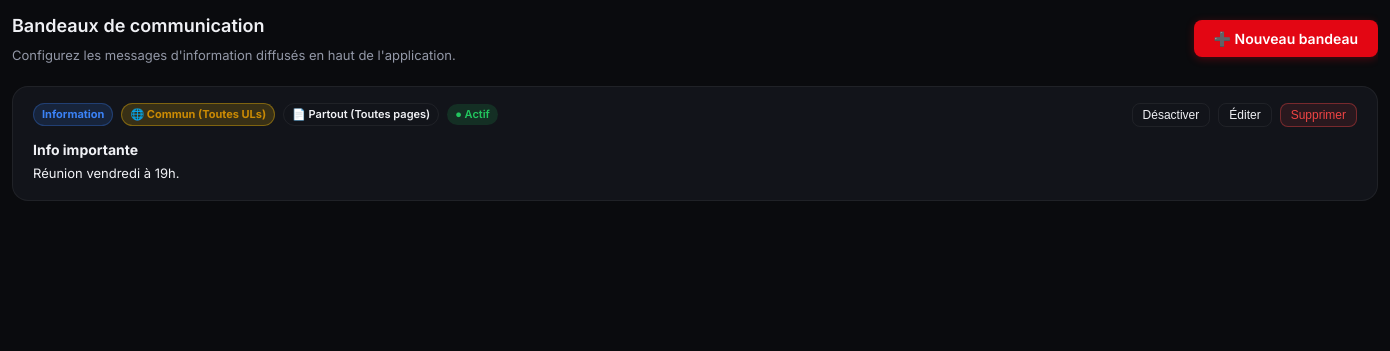
Test: BannersTab › supprime un bandeau après confirmation
Expected: the text "Info importante" is shown, [33,141,138,158]
Click the button "Supprimer". click: x=1318, y=115
box: [1280,103,1357,127]
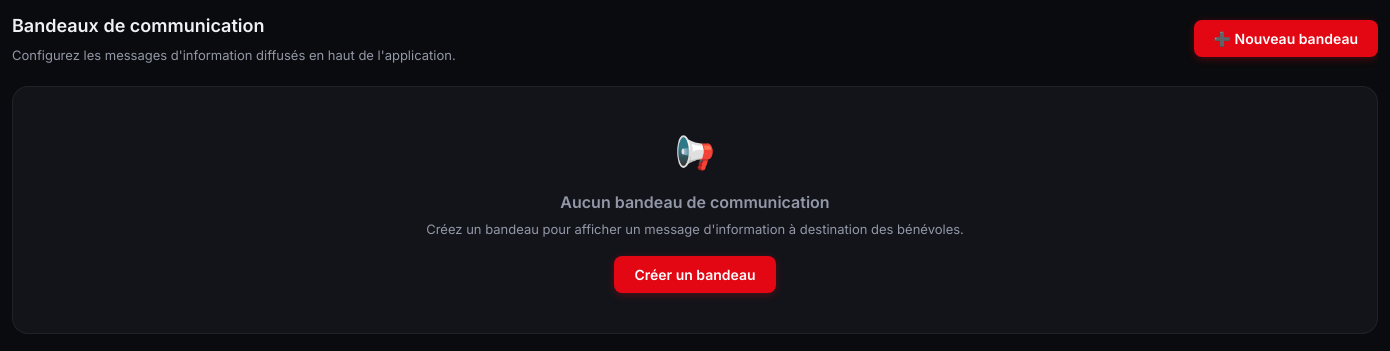
Expected: the text "Info importante" is gone
